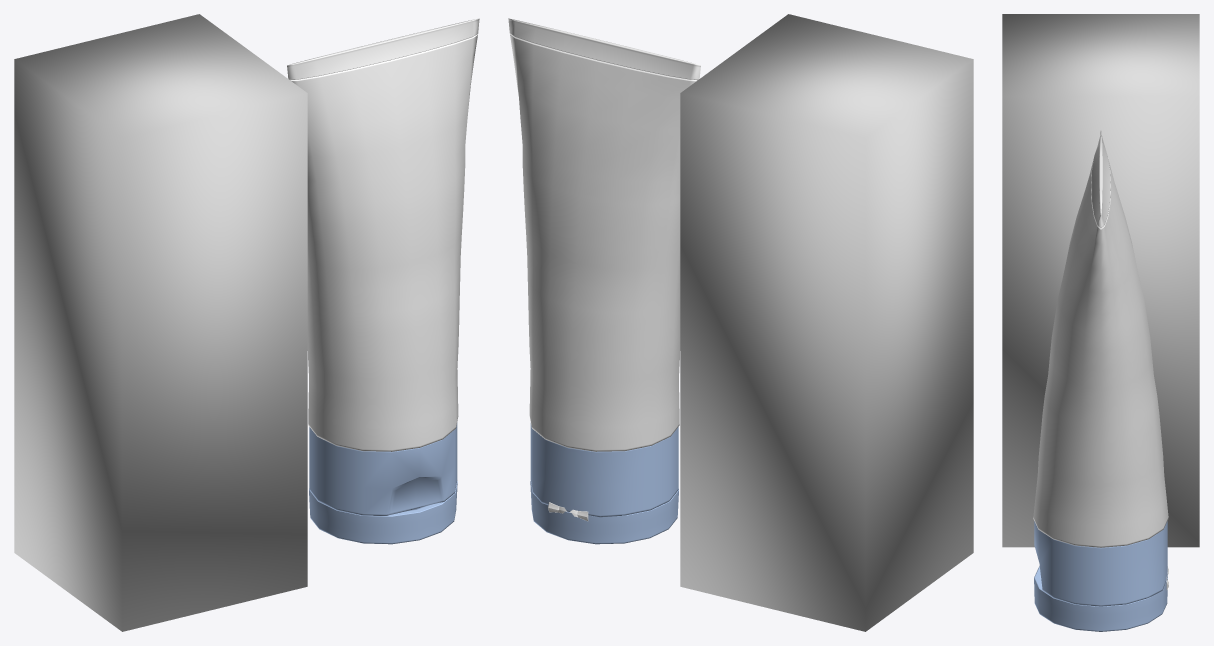
File: zayna-scene.glb
3 renders of one model, left to right at view 1: azimuth 30°, elevation 25°; view 2: azimuth 150°, elevation 25°; view 3: azimuth 270°, elevation 25°, orthographic. The views are drawn at different scales.
Visible parts, largest first — view 1: Cube.008, Tube.006, Cap.006, Cap 2.007; view 2: Cube.008, Tube.006, Cap.006, Cap 2.007; view 3: Cube.008, Tube.006, Cap.006, Cap 2.007.
Part boxes in pixels (bbox=[...]): Cube.008: bbox=[14, 14, 307, 631]; Tube.006: bbox=[287, 18, 479, 451]; Cap.006: bbox=[309, 423, 457, 515]; Cap 2.007: bbox=[309, 481, 457, 544]; Cube.008: bbox=[680, 14, 973, 631]; Tube.006: bbox=[508, 18, 700, 451]; Cap.006: bbox=[530, 423, 678, 517]; Cap 2.007: bbox=[530, 481, 678, 544]; Cube.008: bbox=[1002, 14, 1199, 547]; Tube.006: bbox=[1033, 131, 1168, 547]; Cap.006: bbox=[1034, 521, 1167, 606]; Cap 2.007: bbox=[1034, 566, 1167, 631].
Size of the model in its own units: 1.9 by 2.18 by 0.8643.
